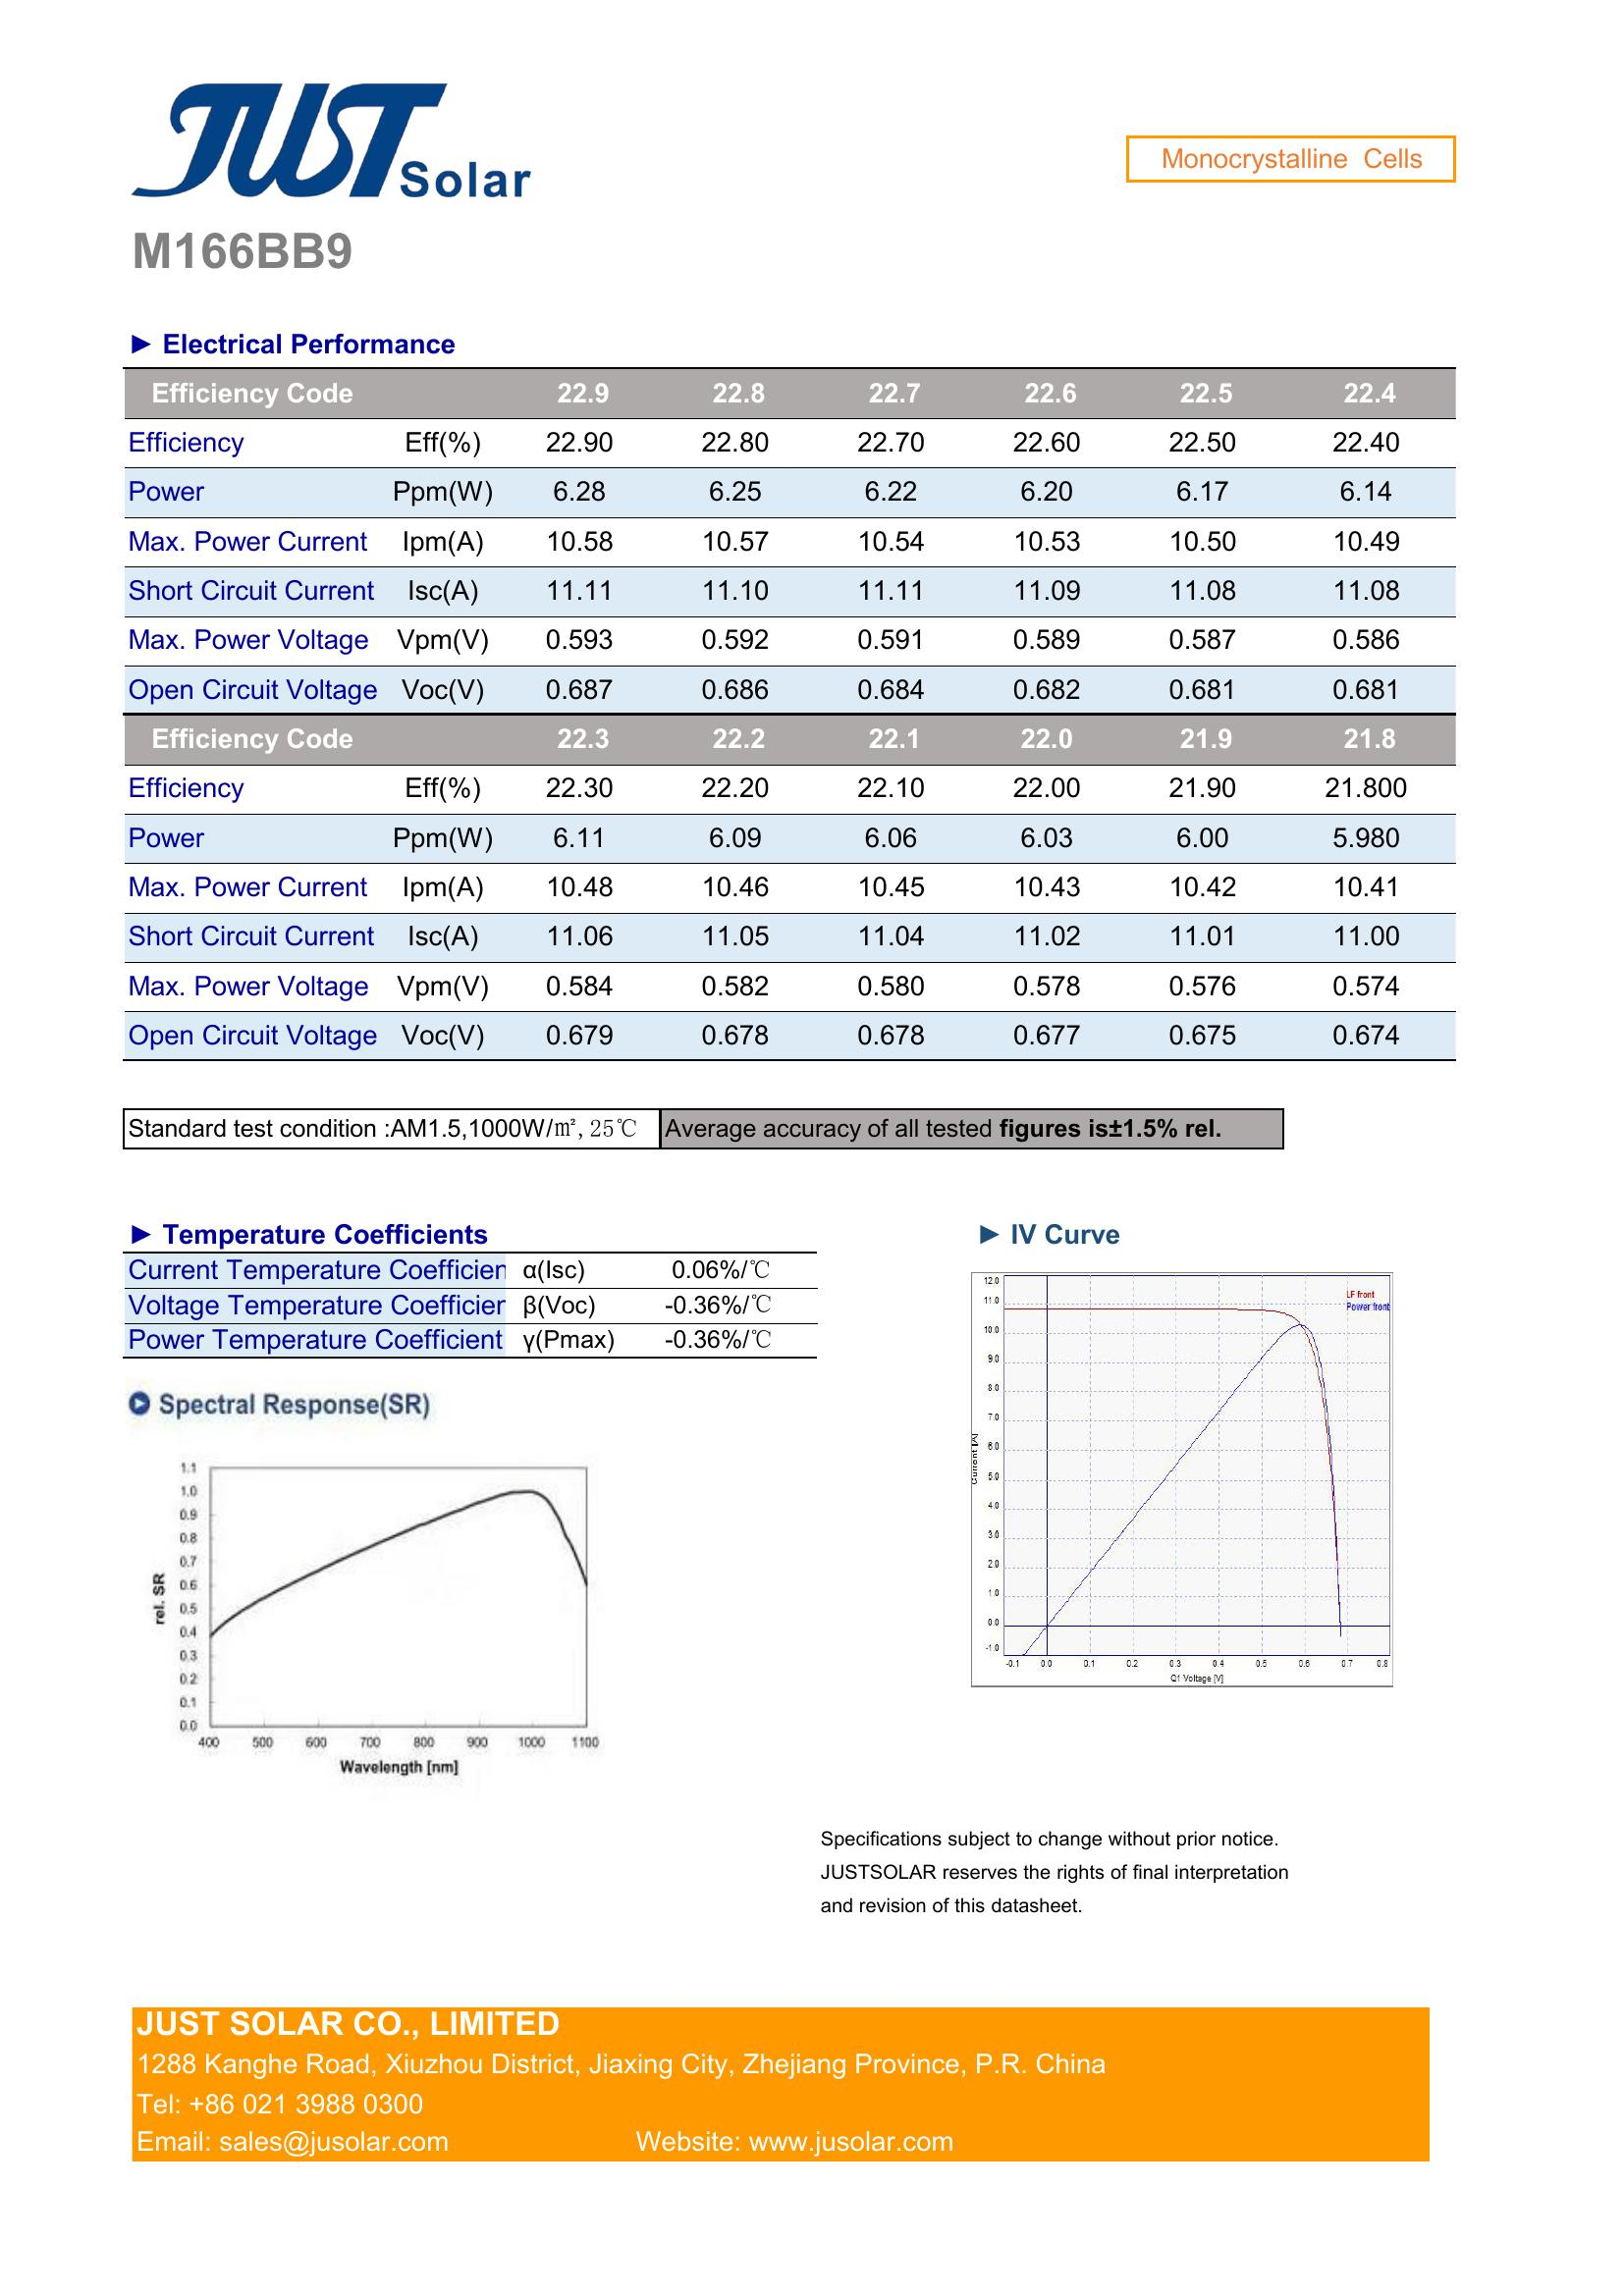table: (114, 362, 1480, 1079), (112, 1216, 826, 1368)
